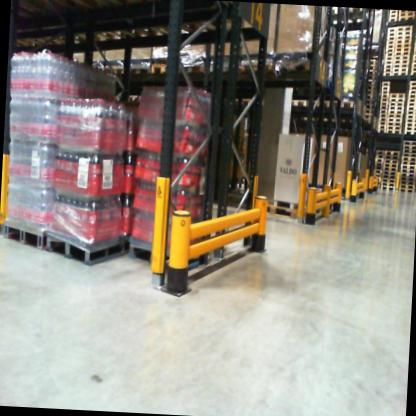pallet: (278, 93, 314, 128), (306, 95, 341, 130), (272, 54, 314, 79), (236, 59, 278, 81), (332, 99, 363, 119), (125, 62, 157, 80), (175, 56, 203, 75), (338, 7, 366, 25), (103, 58, 126, 77), (151, 57, 175, 74), (383, 146, 401, 157), (398, 179, 415, 186), (383, 159, 399, 166), (400, 155, 416, 162), (399, 171, 415, 178), (396, 28, 412, 35), (361, 115, 373, 124), (390, 71, 408, 77), (398, 16, 416, 22), (380, 178, 395, 185), (397, 25, 412, 32), (381, 171, 398, 177), (395, 34, 412, 40), (395, 42, 412, 48), (400, 163, 414, 170), (387, 105, 403, 111), (400, 151, 416, 157), (398, 187, 414, 193), (395, 38, 411, 44), (394, 45, 410, 51), (392, 59, 408, 65), (400, 12, 416, 18), (382, 164, 401, 169), (381, 181, 394, 188), (403, 138, 416, 145), (382, 167, 397, 173), (386, 113, 401, 119), (364, 68, 375, 76), (374, 147, 385, 155), (387, 101, 404, 106), (389, 93, 406, 98), (398, 183, 415, 188), (393, 49, 410, 54), (386, 129, 400, 135), (402, 147, 416, 153), (380, 67, 392, 74), (386, 122, 402, 127), (400, 160, 416, 165), (398, 176, 414, 181), (386, 26, 396, 34), (381, 186, 394, 192), (386, 118, 401, 123), (389, 97, 404, 102), (392, 67, 407, 72), (365, 62, 375, 69), (381, 174, 395, 179), (385, 155, 399, 160), (400, 168, 414, 173), (402, 130, 416, 135), (379, 79, 389, 86), (392, 56, 409, 60), (405, 121, 416, 127), (384, 42, 395, 48), (403, 144, 416, 149), (364, 102, 372, 110), (387, 110, 403, 114), (393, 53, 409, 57), (392, 63, 408, 67), (363, 113, 372, 120), (370, 164, 382, 169), (386, 126, 401, 130), (404, 126, 416, 131), (379, 85, 391, 90), (383, 47, 395, 52), (399, 10, 414, 14), (365, 92, 373, 99), (405, 117, 416, 122), (405, 113, 416, 118), (405, 109, 416, 114), (372, 161, 381, 167), (407, 92, 416, 98), (378, 108, 387, 114), (377, 112, 386, 118), (406, 101, 416, 106), (380, 89, 390, 94), (367, 74, 374, 81), (366, 78, 374, 84), (365, 83, 373, 89), (365, 88, 373, 94), (363, 98, 371, 104), (373, 167, 381, 173), (387, 31, 395, 37), (385, 17, 397, 21), (367, 60, 376, 65), (377, 121, 386, 126), (383, 63, 392, 68), (387, 12, 396, 17), (373, 157, 383, 161), (373, 172, 381, 177), (406, 105, 416, 109), (380, 92, 388, 97), (375, 128, 385, 132), (380, 72, 390, 76), (385, 39, 395, 43), (374, 153, 383, 157), (407, 97, 416, 101), (410, 79, 416, 85), (378, 105, 387, 109), (383, 59, 392, 63), (385, 52, 394, 56), (385, 35, 394, 39), (410, 70, 416, 76), (388, 9, 397, 13), (408, 89, 416, 93), (380, 97, 388, 101), (378, 117, 386, 121), (384, 56, 392, 60), (363, 110, 373, 113), (410, 62, 416, 67), (410, 57, 416, 62), (409, 85, 416, 89), (380, 101, 387, 105), (411, 66, 416, 71), (377, 125, 385, 128), (412, 53, 416, 59), (413, 50, 416, 55), (414, 45, 416, 51), (414, 30, 416, 34)
